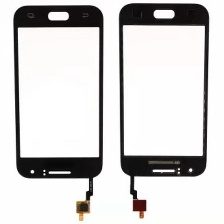phone: (110, 0, 217, 181), (9, 2, 107, 184)
